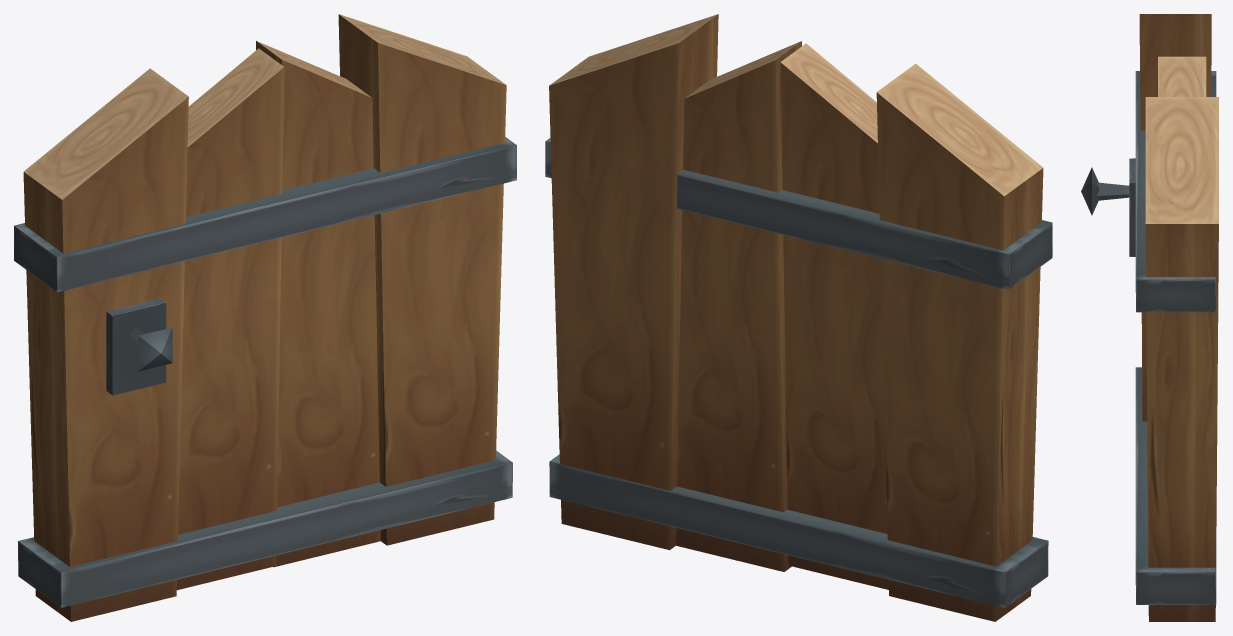
Rendered from gates_01.fbx.
3 renders of one model, left to right at view 1: azimuth 30°, elevation 25°; view 2: azimuth 150°, elevation 25°; view 3: azimuth 270°, elevation 25°, orthographic. The views are drawn at different scales.
Visible parts, largest first — view 1: gates_01:Mesh; view 2: gates_01:Mesh; view 3: gates_01:Mesh.
Boxes of the visible parts, x1,y1,x2,y2 form: gates_01:Mesh: (14, 14, 516, 621); gates_01:Mesh: (545, 14, 1052, 621); gates_01:Mesh: (1081, 14, 1218, 621).
Bounding box in the file's own units: 2.64 × 2.78 × 0.7372.
